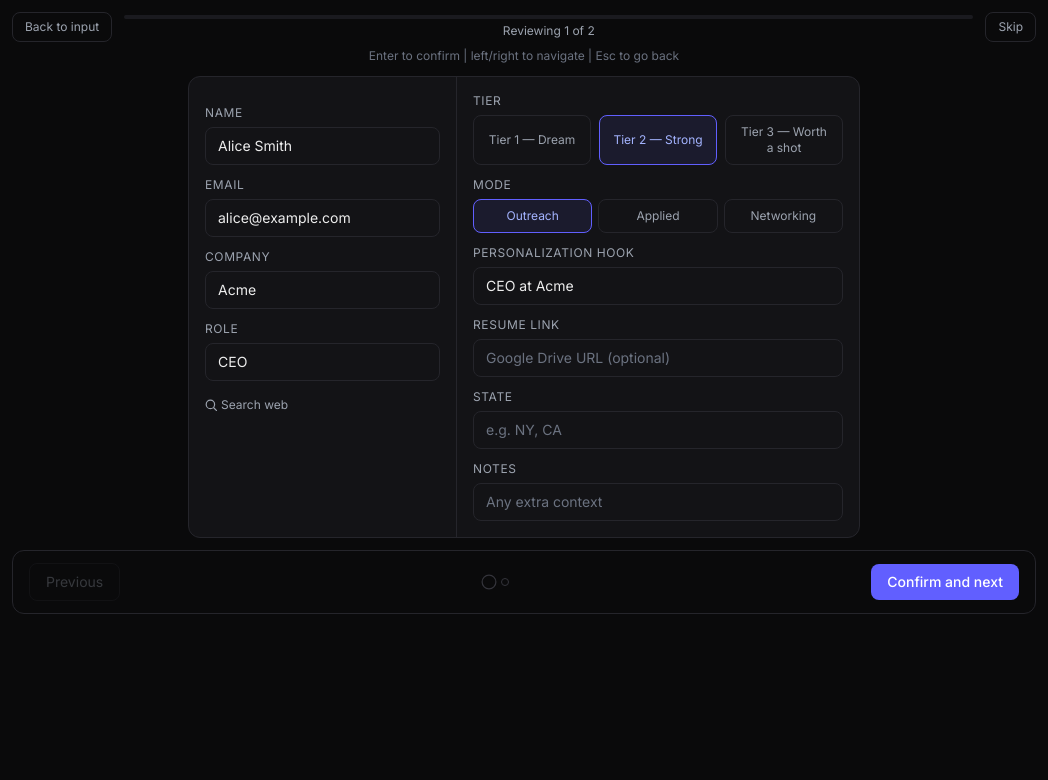
it: ReviewFlow — reviewing phase › Previous on card 2 returns to card 1
The width and height of the screenshot is (1048, 780).
// Confirm card 1 to advance to card 2
Click the button "Confirm and next": [945, 582] box [871,564,1019,600]
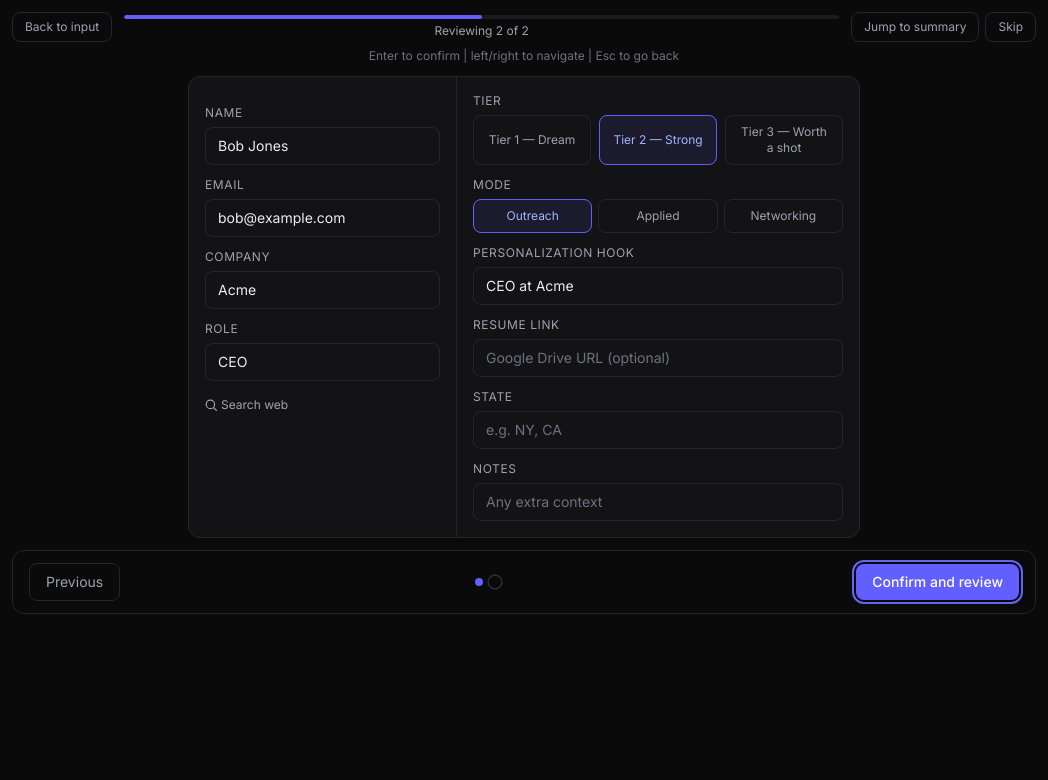
// Now at card 2 — click Previous
Click the button "Previous": [75, 582] box [29,563,120,601]
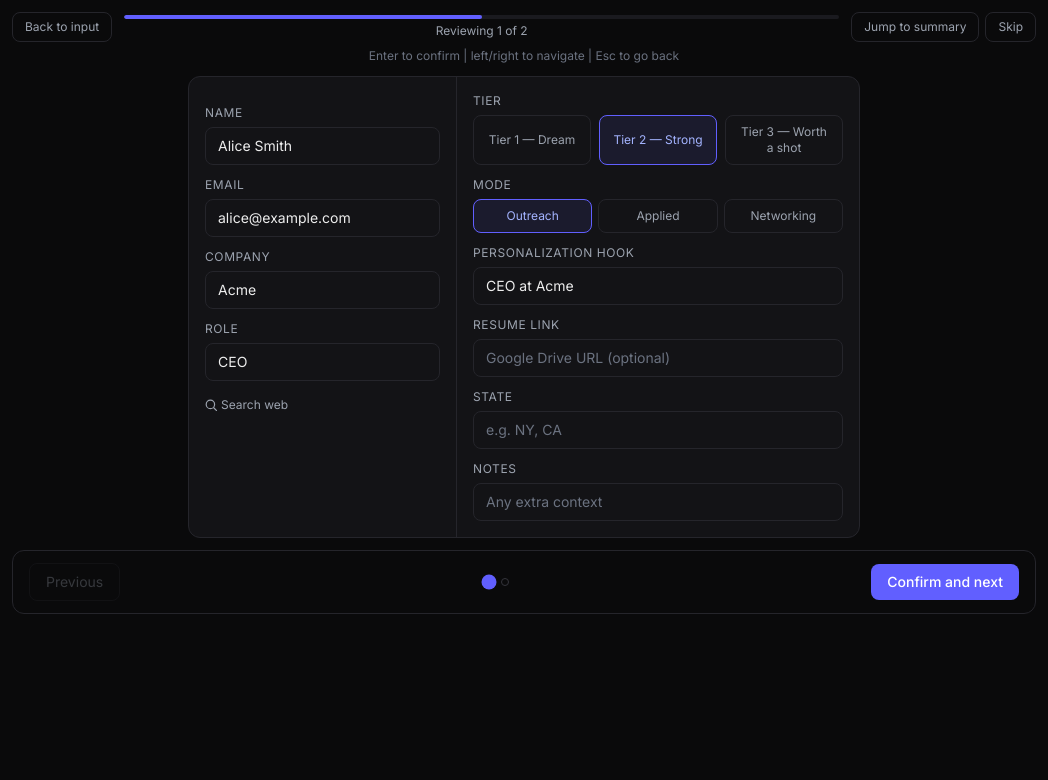
Result: the text "Reviewing 1 of 2" is shown at [436,23,528,38]
